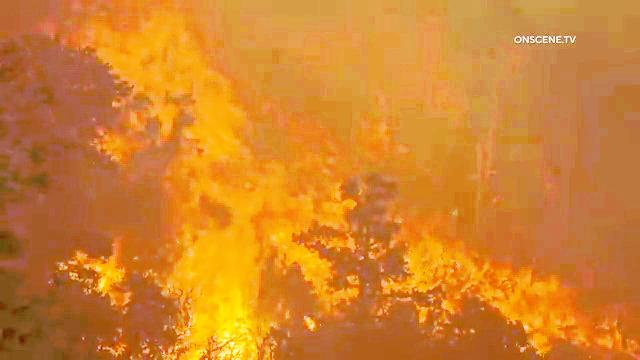fire: (80, 9, 301, 214), (344, 213, 639, 360), (140, 236, 296, 360)
